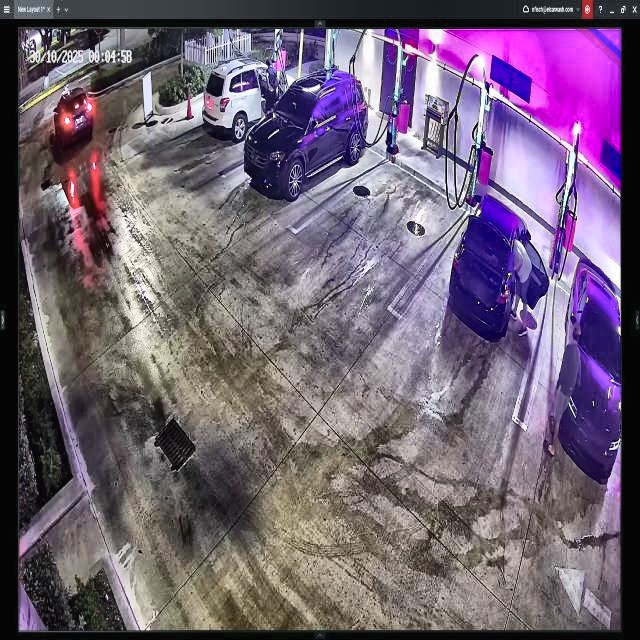Car: (244, 67, 370, 202), (447, 190, 548, 343)
